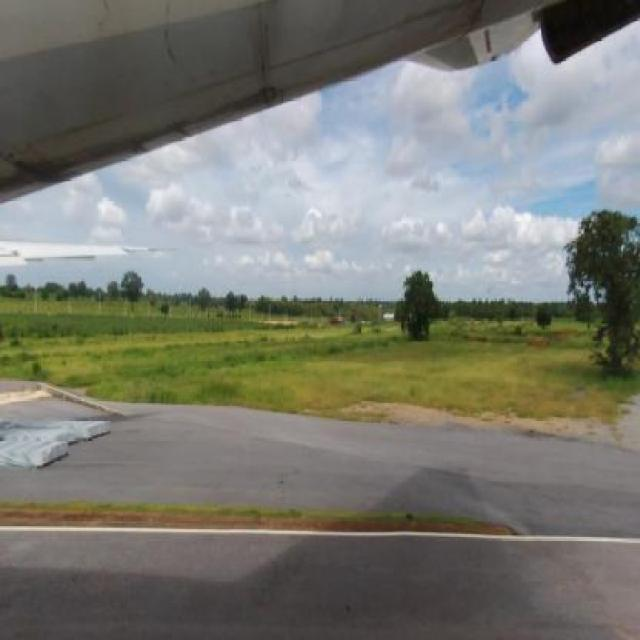Rust: (0, 117, 132, 208), (225, 0, 305, 138), (157, 0, 201, 89), (86, 1, 131, 59)
